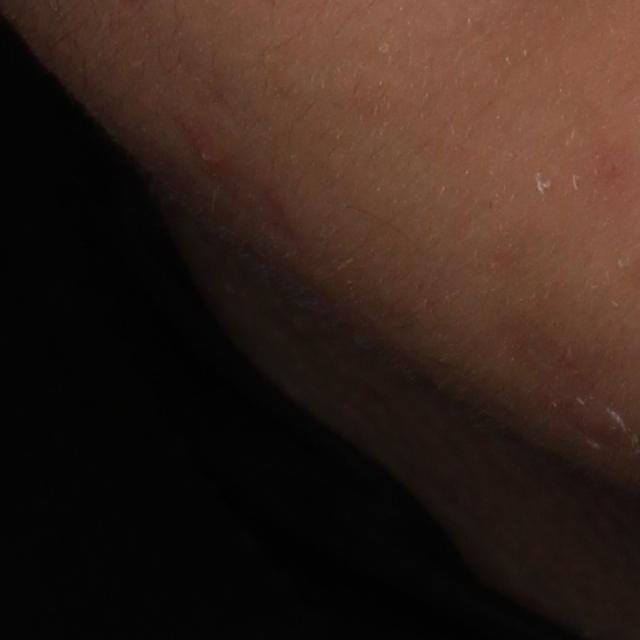papule: (185, 124, 235, 173)
